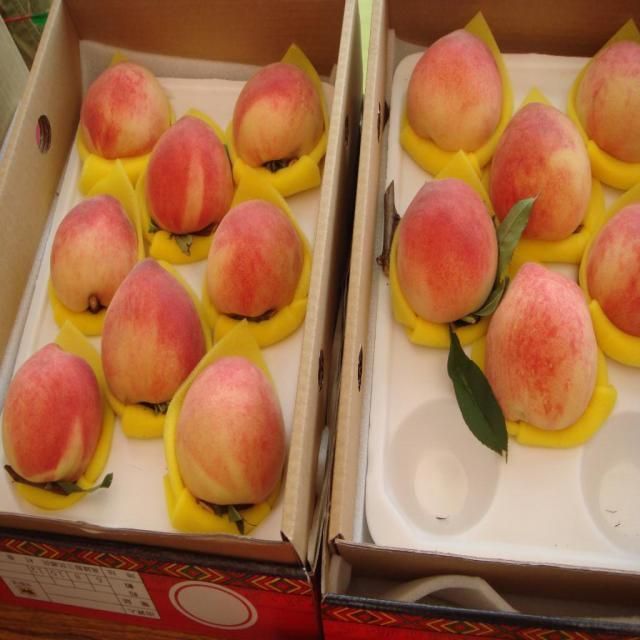Peach: (484, 262, 598, 430), (174, 355, 284, 504), (100, 258, 204, 406), (0, 341, 102, 487), (398, 177, 499, 323), (490, 99, 590, 239), (406, 29, 504, 153), (206, 200, 302, 321), (146, 115, 236, 236), (52, 192, 137, 316), (233, 61, 324, 170), (80, 59, 170, 161), (576, 40, 640, 162), (589, 203, 639, 341)
